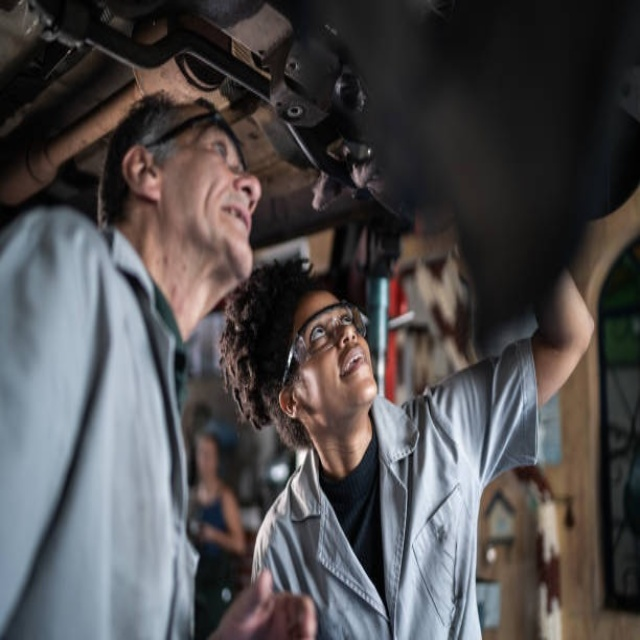Gafas: (283, 301, 369, 380), (148, 111, 246, 175)
Sin_mascara: (200, 198, 254, 259), (335, 344, 373, 397)
